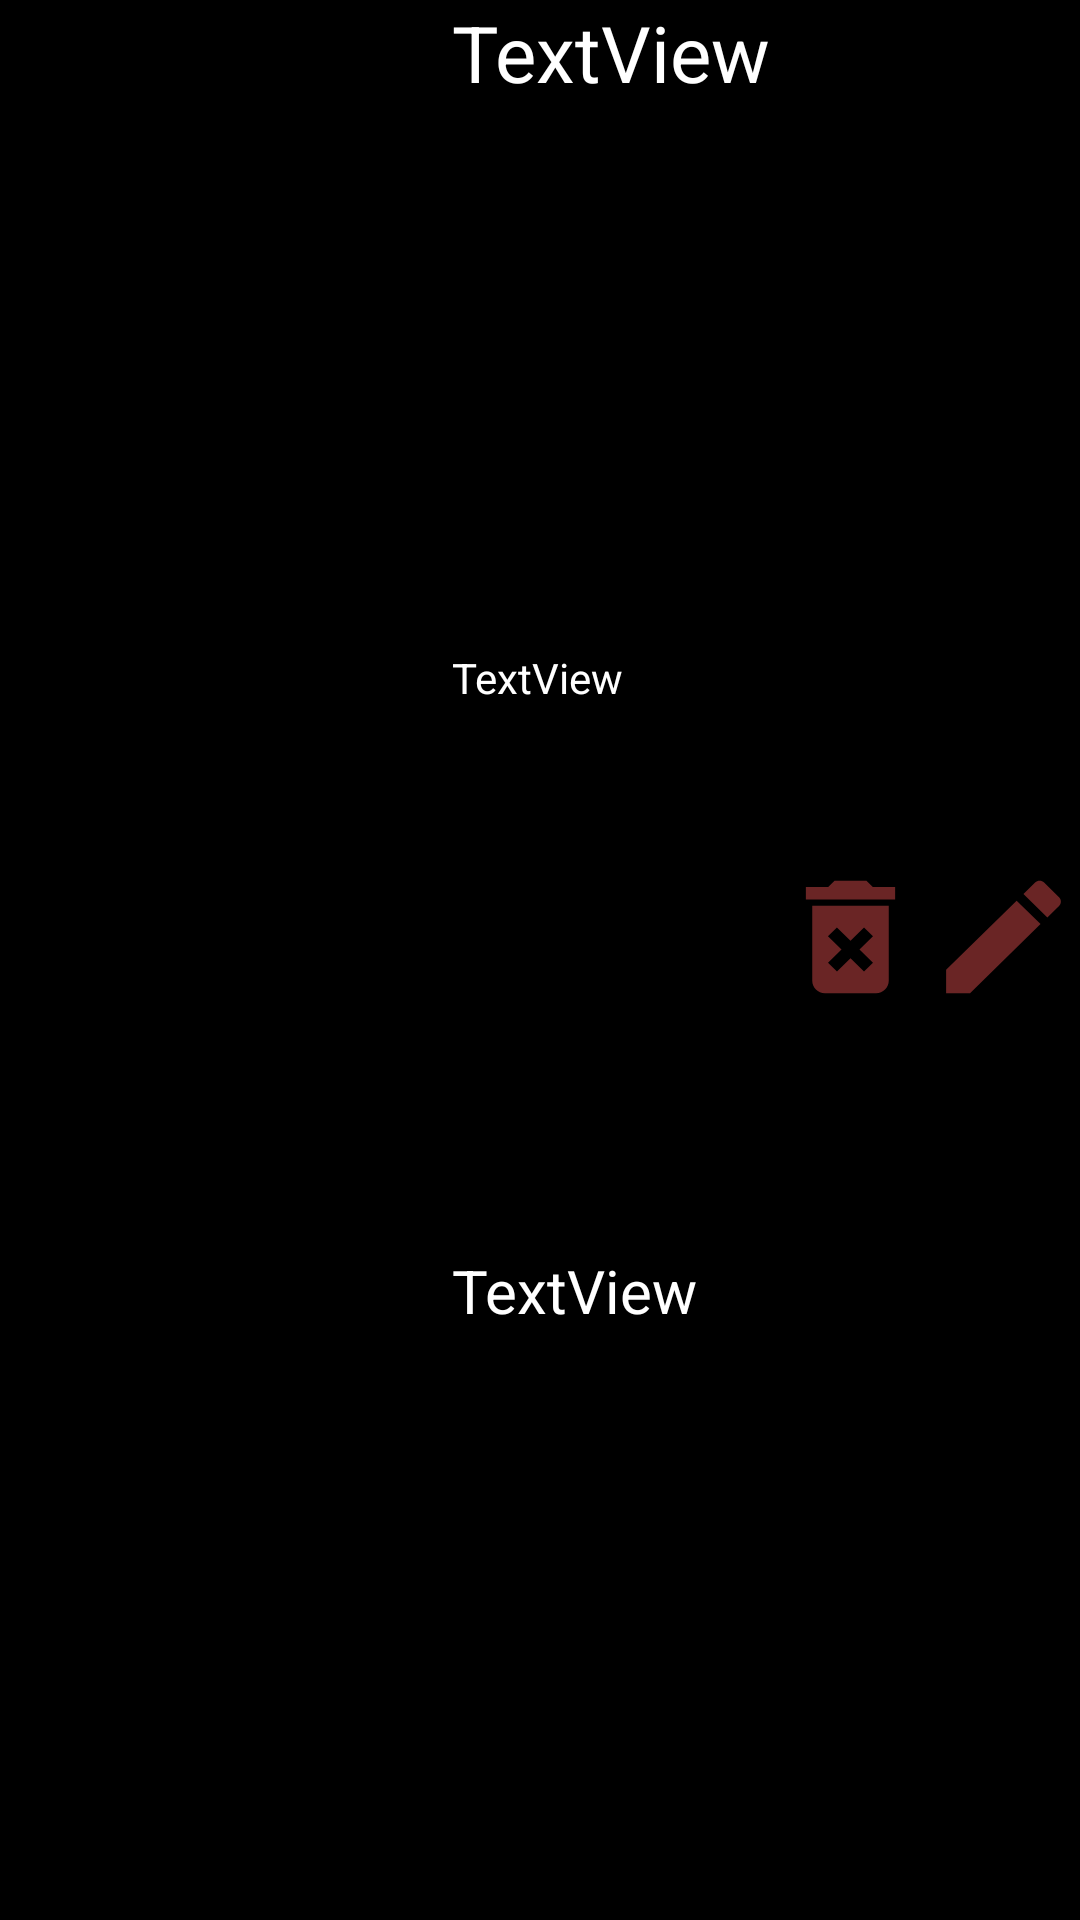

Locate icon controls on the screen. Image size 1080*1920, boxes as (x1, y1, x2, y2).
delete forever: (806, 880, 895, 994)
edit: (946, 880, 1061, 994)
